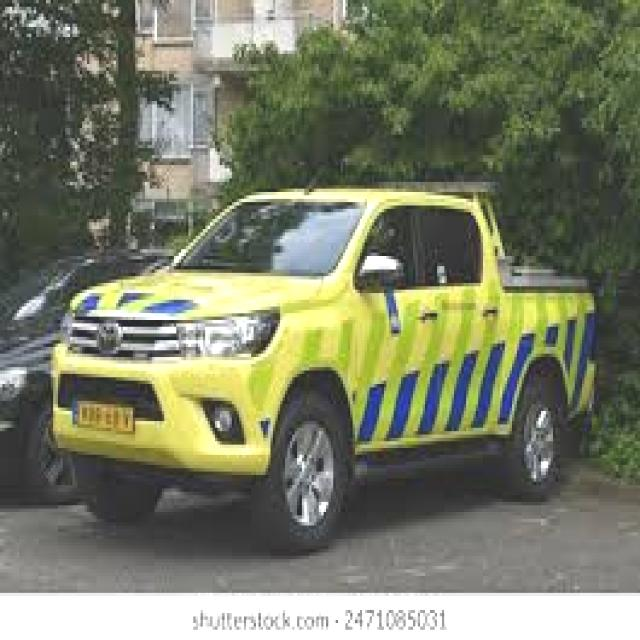CMT: (37, 184, 608, 552)
